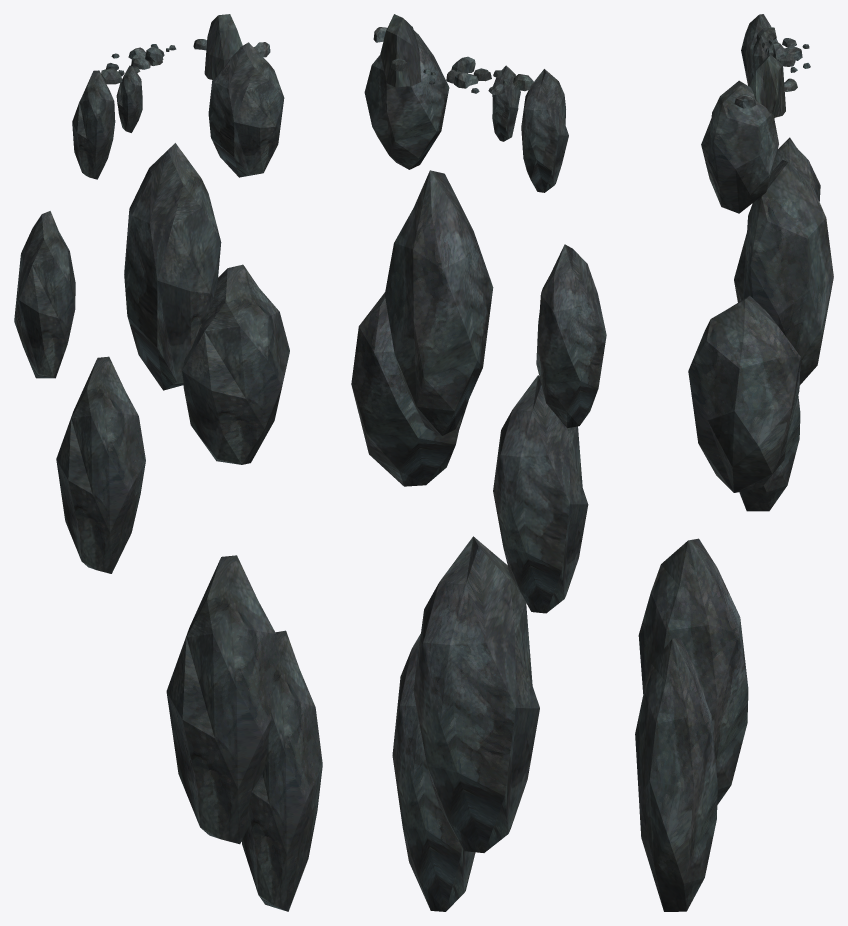
File: object_rubble.fbx
3 views of the same model, side by side, from view 1: azimuth 30°, elevation 25°; view 2: azimuth 150°, elevation 25°; view 3: azimuth 270°, elevation 25° (orthographic). The views are drawn at different scales.
Visible parts, largest first — view 1: obj1.020; view 2: obj1.020; view 3: obj1.020.
Boxes of the visible parts, x1=… form: obj1.020: x1=14, y1=14, x2=322, y2=911; obj1.020: x1=351, y1=14, x2=606, y2=911; obj1.020: x1=635, y1=14, x2=833, y2=911.
Size of the model in its own units: 16.97 by 56.47 by 11.97.
